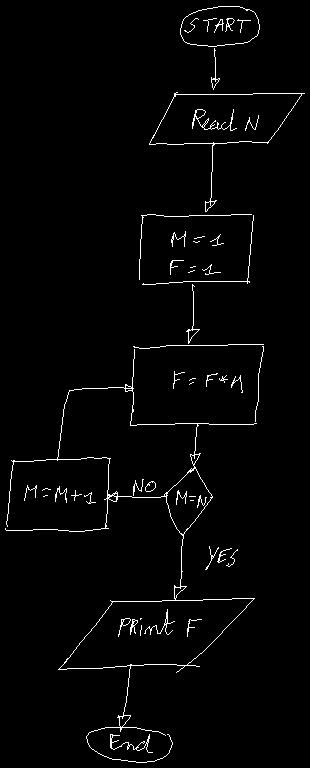arrow: (57, 384, 133, 460), (117, 664, 131, 731), (174, 534, 186, 599), (186, 284, 199, 343), (205, 142, 216, 211), (104, 491, 167, 501), (190, 424, 200, 465), (211, 48, 219, 89)
data: (58, 598, 254, 672), (149, 92, 304, 144)
decision: (164, 466, 212, 535)
process: (130, 344, 263, 425), (139, 214, 253, 284), (5, 457, 110, 531)
terminator: (180, 6, 259, 46), (86, 727, 172, 762)
text: (170, 231, 223, 274), (118, 609, 201, 636), (173, 371, 242, 392), (192, 109, 258, 130), (24, 485, 95, 503), (184, 18, 250, 32), (110, 734, 152, 752), (205, 546, 237, 569), (176, 490, 206, 507), (133, 479, 155, 495)
